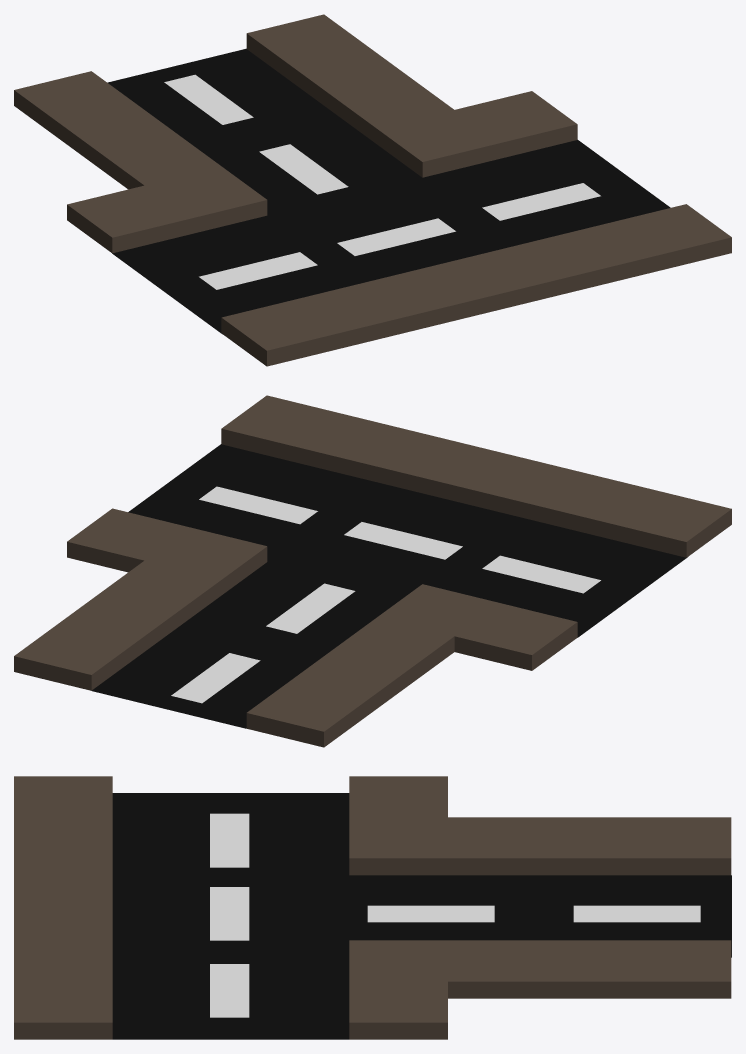
Rendered from ruaT.fbx.
3 renders of one model, top to bottom at view 1: azimuth 30°, elevation 25°; view 2: azimuth 150°, elevation 25°; view 3: azimuth 270°, elevation 25°, orthographic. The views are drawn at different scales.
Parts seen in each view (by area): view 1: Rua T; view 2: Rua T; view 3: Rua T.
Part boxes in pixels (left/top/right/bottom): Rua T: left=14, top=14, right=731, bottom=366; Rua T: left=14, top=395, right=731, bottom=747; Rua T: left=14, top=776, right=731, bottom=1039.
Size of the model in its own units: 486 by 15.74 by 597.
